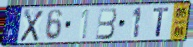1: (132, 6, 143, 39), (81, 9, 91, 40)
6: (45, 8, 64, 41)
B: (95, 7, 118, 41)
T: (152, 7, 171, 38)
X: (19, 9, 45, 44)
